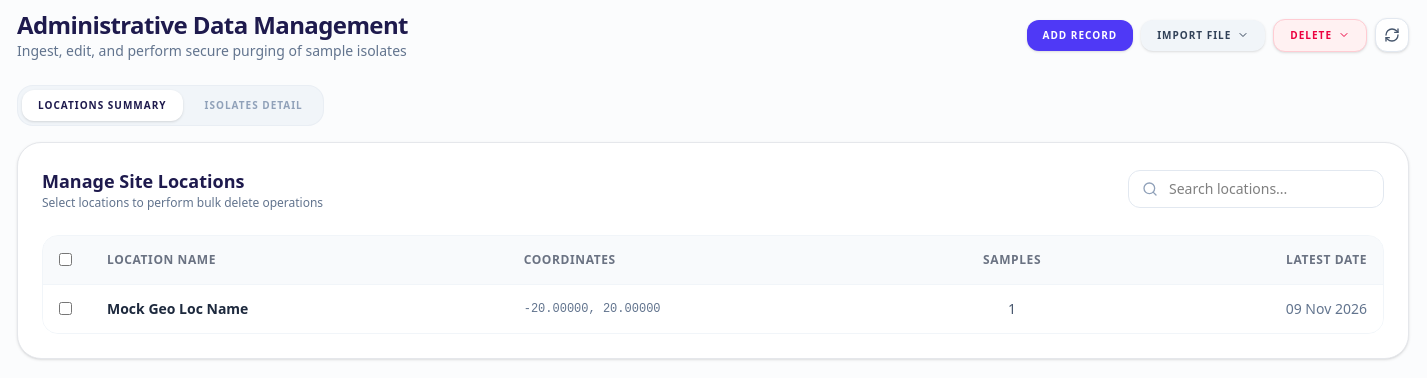
Test case: Date Management Page Tests › Successfully selects a location when record is clicked
The width and height of the screenshot is (1427, 378).
Click the text "Mock Geo Loc Name" at point(178, 308), box [91,284,508,333]
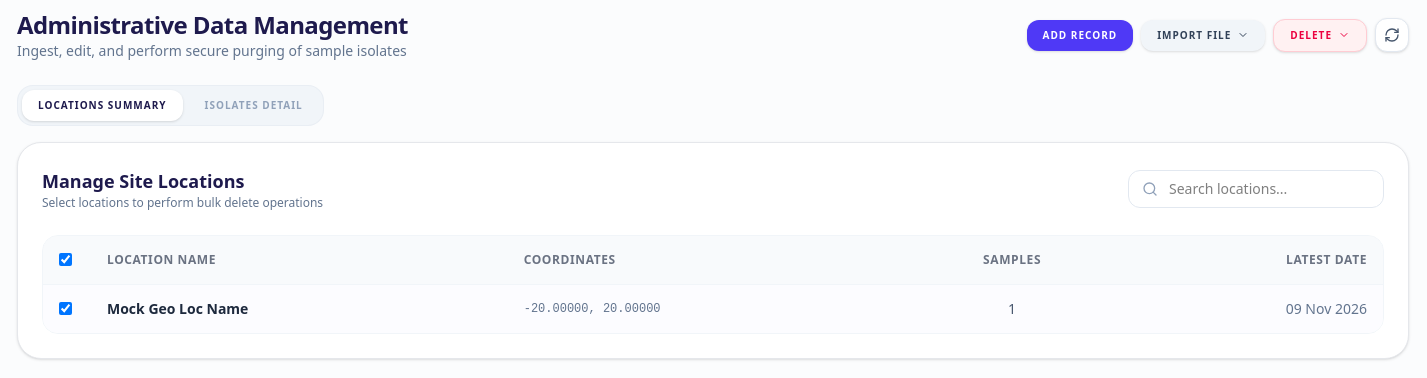
Check: the checkbox next to "Mock Geo Loc Name" is checked, box [59,302,72,315]
